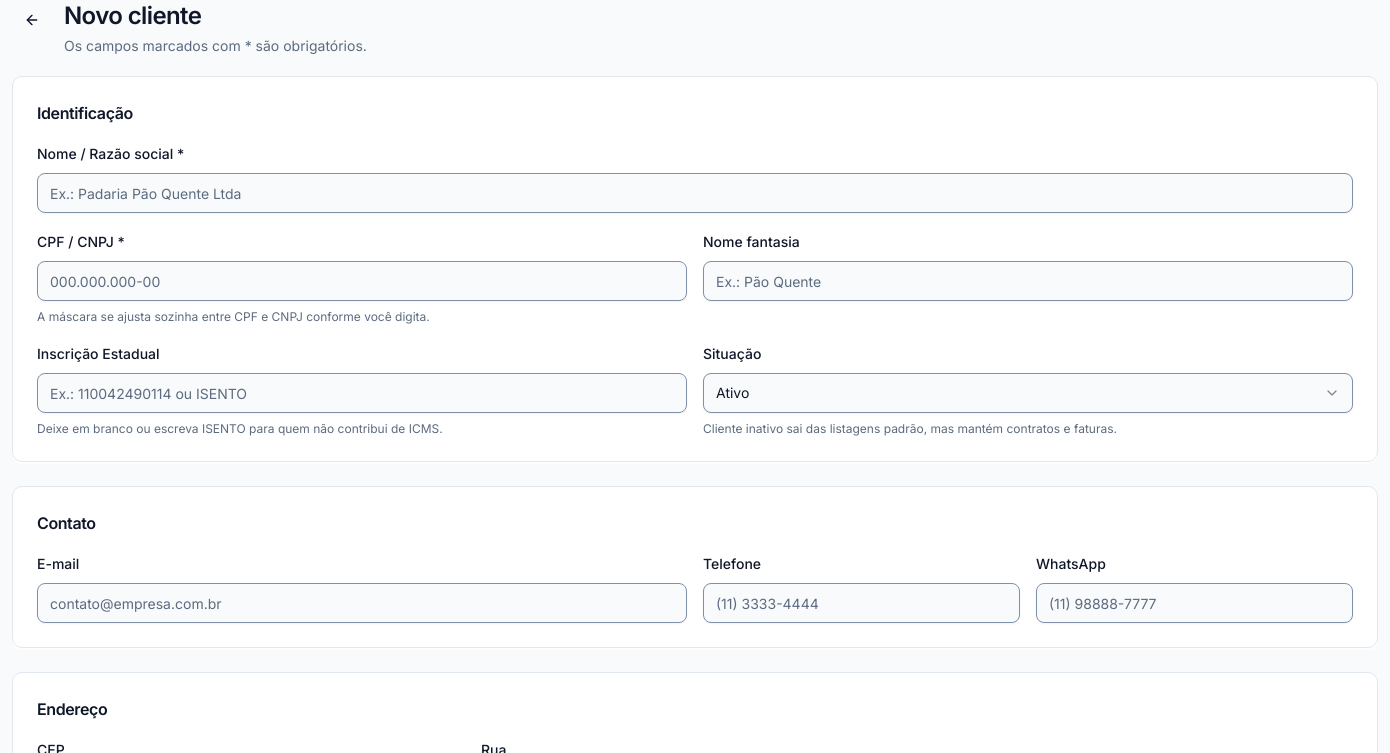
it: cadastro de cliente — envio › erro de validação da API é destacado no campo correspondente
The width and height of the screenshot is (1390, 753).
Type "Maria Silva" into the field labelled "Nome / Razão social *" at (695, 193), box [37,173,1353,213]
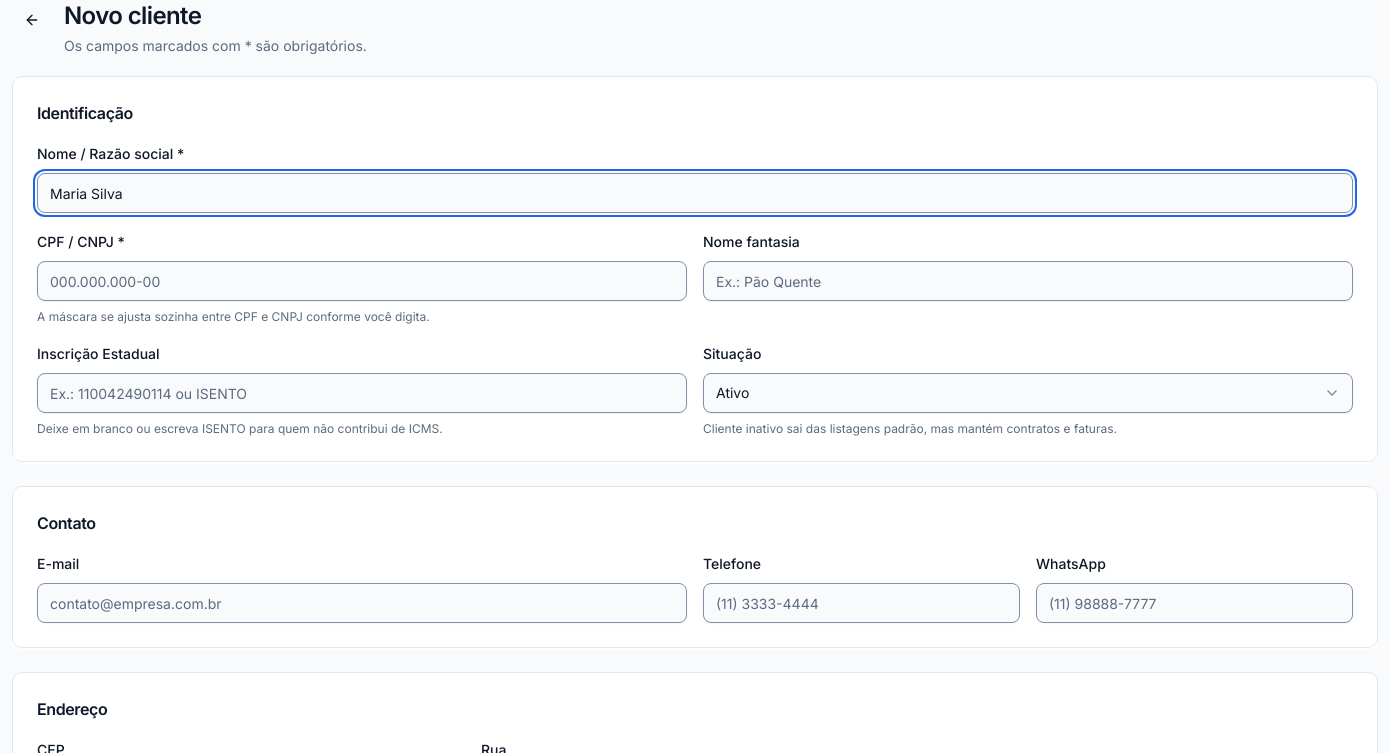
Type "52998224725" into the field labelled "CPF / CNPJ *" at (362, 281), box [37,261,687,301]
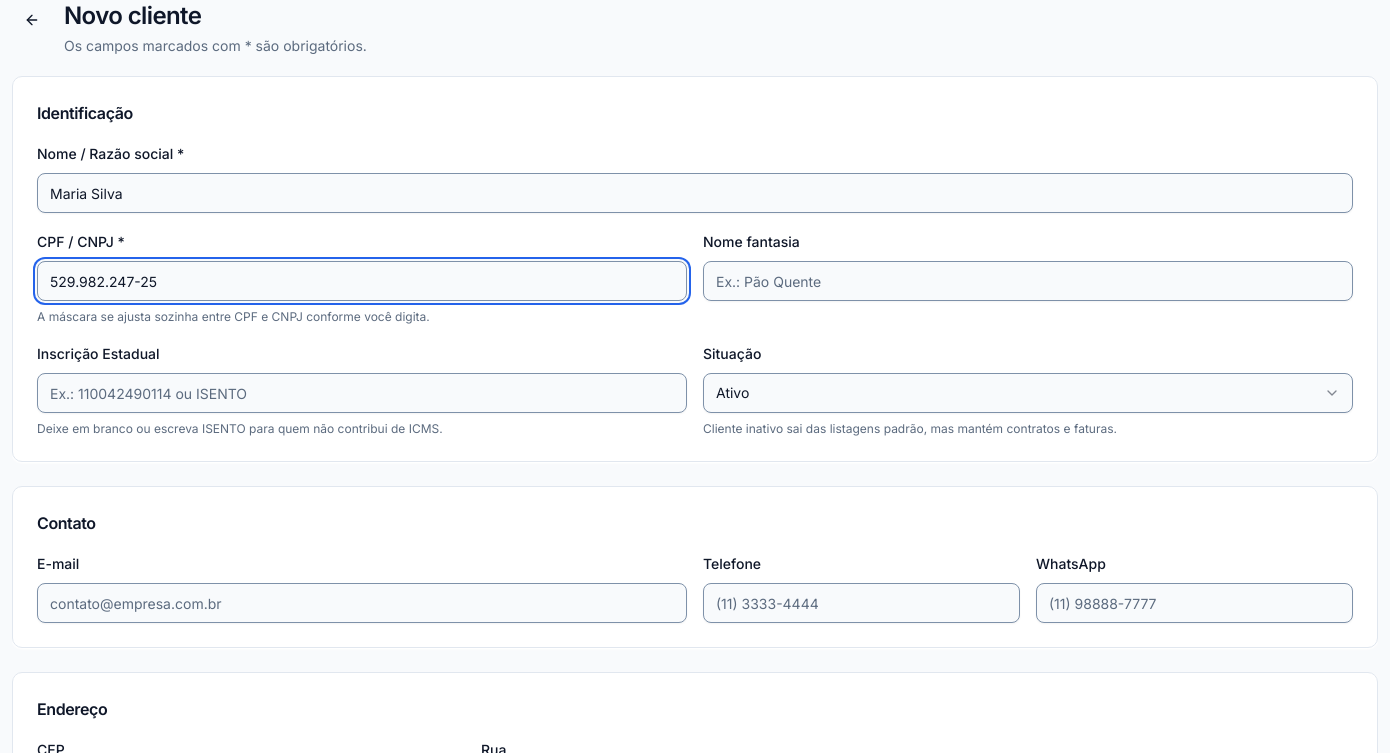
Type "maria@exemplo.com" into the field labelled "E-mail" at (362, 603), box [37,583,687,623]
(page scrolled)
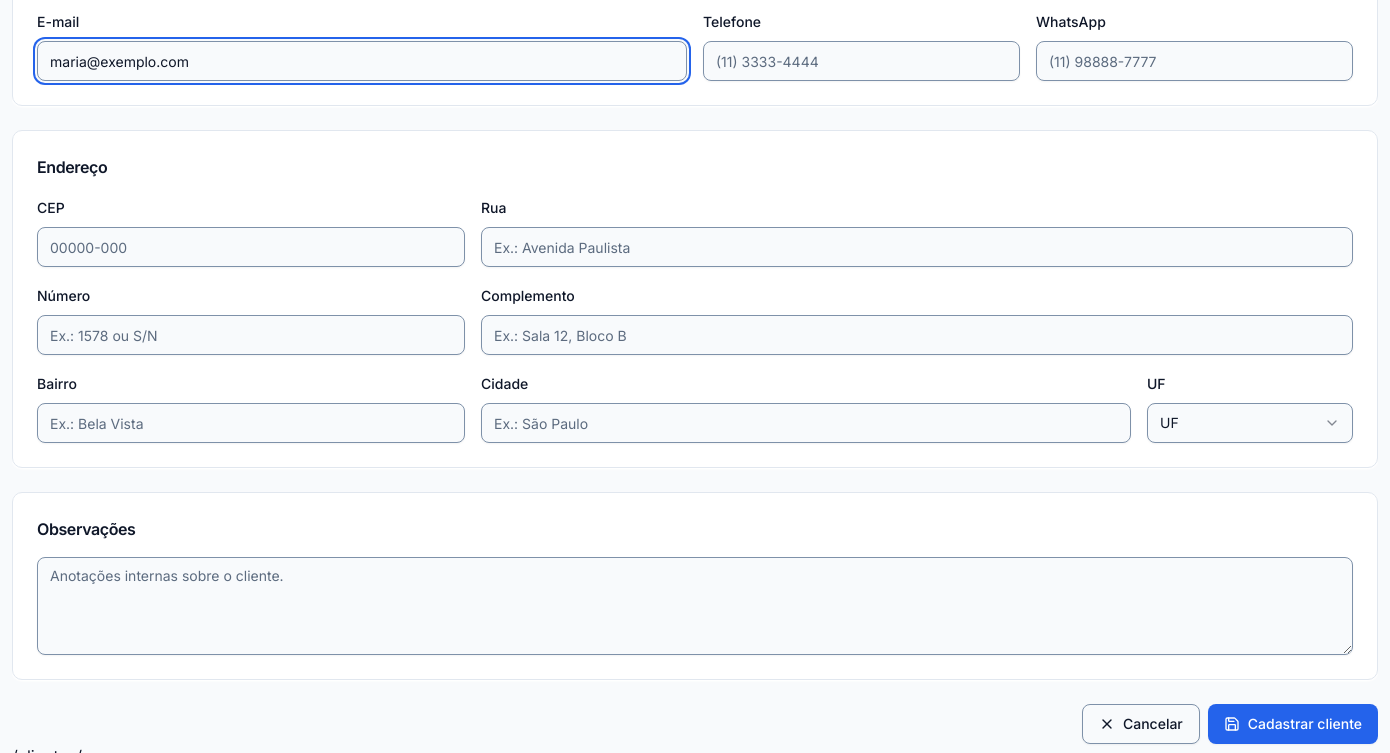
Click the button "Cadastrar cliente" at (1293, 724), box [1208,704,1378,744]
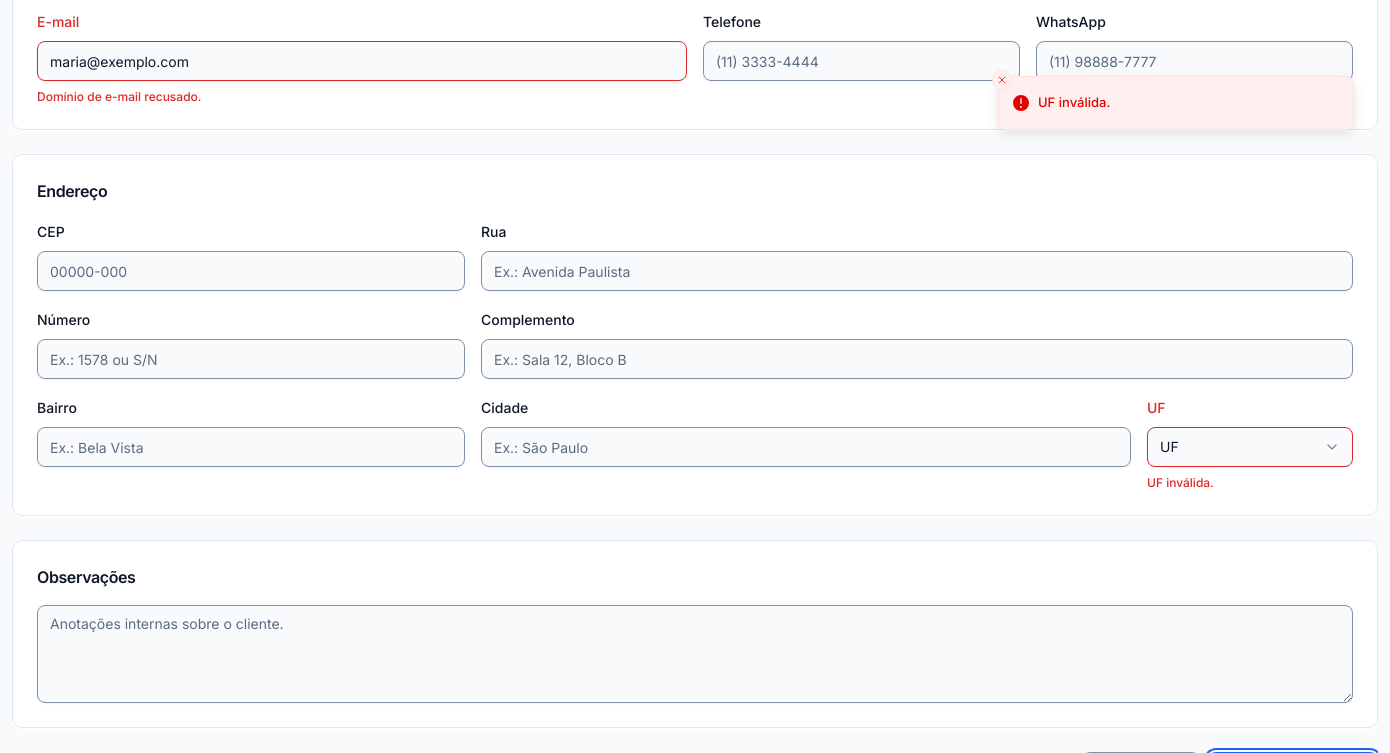
Result: the text "Domínio de e-mail recusado." is shown at [37,89,202,104]
